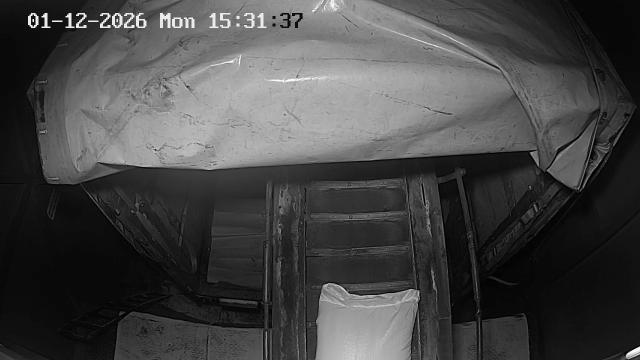bag: (316, 284, 421, 360)
